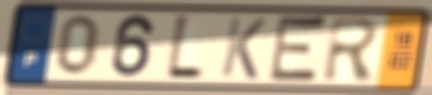0: (52, 13, 104, 78)
6: (110, 13, 157, 79)
E: (265, 12, 330, 87)
K: (218, 15, 269, 82)
L: (163, 12, 206, 83)
R: (320, 16, 383, 84)
